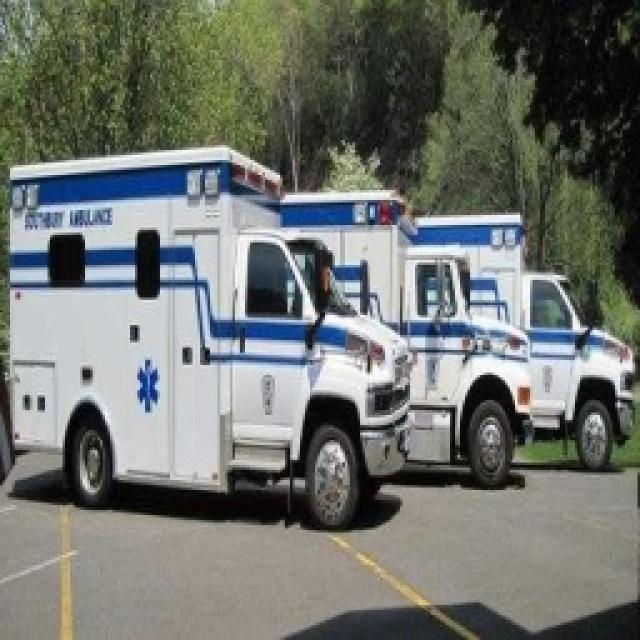ambulance: (8, 142, 408, 528)
